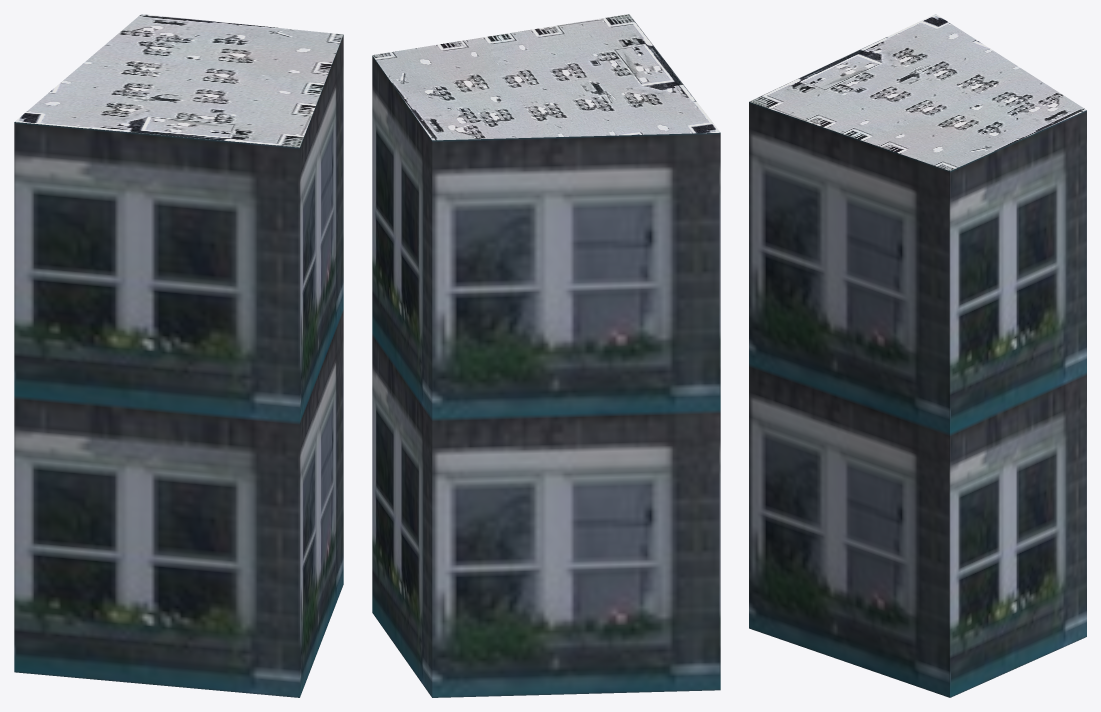
File: ResTex__1181.fbx
3 views of the same model, side by side, from view 1: azimuth 30°, elevation 25°; view 2: azimuth 150°, elevation 25°; view 3: azimuth 270°, elevation 25° (orthographic). The views are drawn at different scales.
Parts seen in each view (by area): view 1: CityEngineMaterial_11_m, CityEngineMaterial_2_m; view 2: CityEngineMaterial_11_m, CityEngineMaterial_2_m; view 3: CityEngineMaterial_11_m, CityEngineMaterial_2_m.
Part boxes in pixels (x1,y1,x2,y2): CityEngineMaterial_11_m: (14, 35, 343, 697); CityEngineMaterial_2_m: (15, 14, 343, 147); CityEngineMaterial_11_m: (372, 56, 720, 697); CityEngineMaterial_2_m: (372, 14, 720, 140); CityEngineMaterial_11_m: (749, 102, 1086, 697); CityEngineMaterial_2_m: (749, 14, 1086, 170).
Size of the model in its own units: 3.84 by 6 by 3.49.
2 materials, 2 textured.
